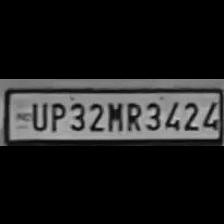2: (180, 97, 198, 130), (86, 98, 104, 130)
3: (141, 98, 161, 130), (65, 98, 84, 130)
4: (200, 96, 220, 128), (162, 97, 180, 129)
M: (104, 98, 124, 130)
P: (47, 98, 65, 132)
R: (122, 98, 142, 130)
U: (26, 98, 48, 130)
